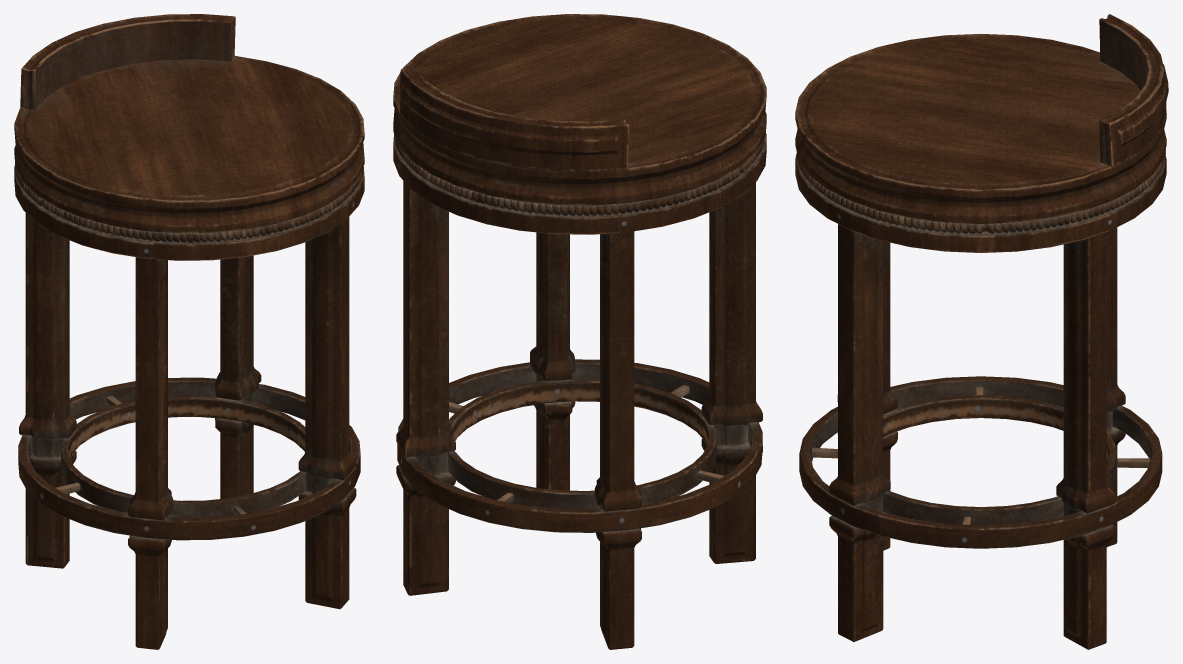
Rendered from bar_chair_round_01.glb.
3 views of the same model, side by side, from view 1: azimuth 30°, elevation 25°; view 2: azimuth 150°, elevation 25°; view 3: azimuth 270°, elevation 25° (orthographic). The views are drawn at different scales.
Parts seen in each view (by area): view 1: bar_chair_round_01; view 2: bar_chair_round_01; view 3: bar_chair_round_01.
Boxes of the visible parts, x1,y1,x2,y2 form: bar_chair_round_01: [14, 14, 364, 649]; bar_chair_round_01: [393, 14, 766, 649]; bar_chair_round_01: [795, 14, 1168, 649].
Size of the model in its own units: 0.4832 by 0.7505 by 0.486.
1 material, 1 textured.
